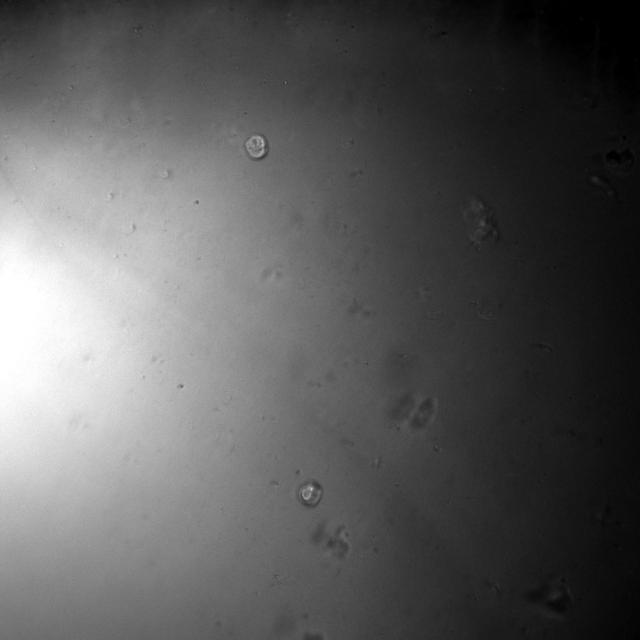organoid: (461, 195, 499, 250), (298, 479, 322, 507), (244, 133, 268, 160)
